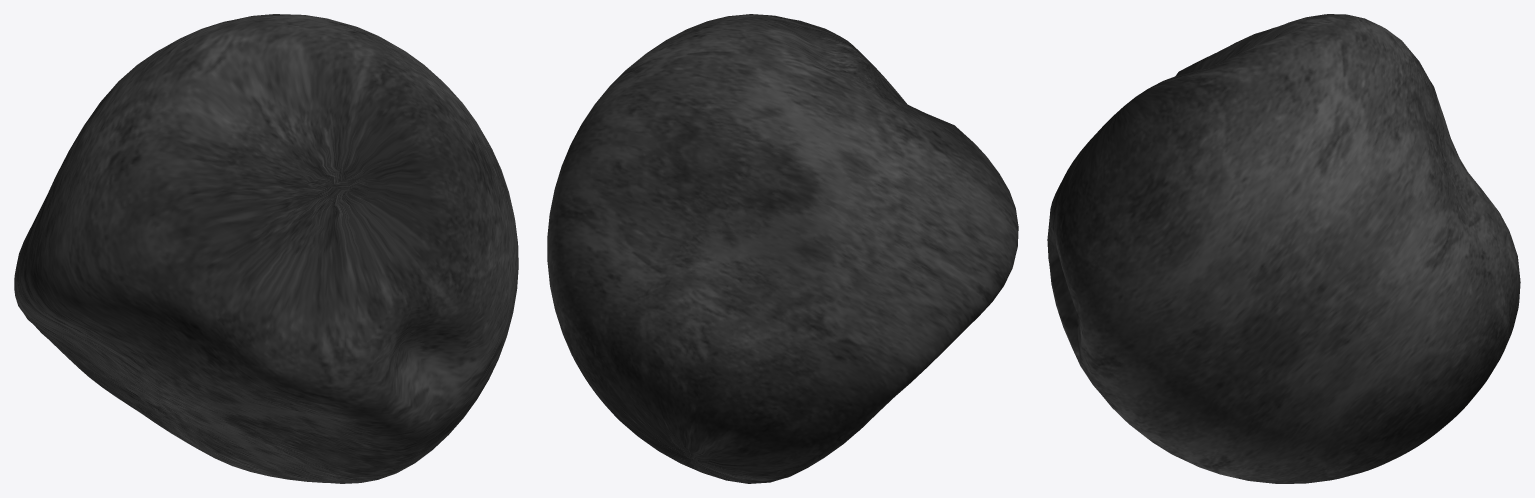
File: Asteroid_3-3.fbx
3 views of the same model, side by side, from view 1: azimuth 30°, elevation 25°; view 2: azimuth 150°, elevation 25°; view 3: azimuth 270°, elevation 25° (orthographic). The views are drawn at different scales.
Visible parts, largest first — view 1: Asteroid_1-3.001; view 2: Asteroid_1-3.001; view 3: Asteroid_1-3.001.
Boxes of the visible parts, left/top/right/bottom form: Asteroid_1-3.001: left=14, top=14, right=518, bottom=483; Asteroid_1-3.001: left=547, top=14, right=1018, bottom=483; Asteroid_1-3.001: left=1047, top=14, right=1520, bottom=483.
Size of the model in its own units: 2.02 by 1.92 by 1.93.
Materials: 1 (1 with a texture image).
